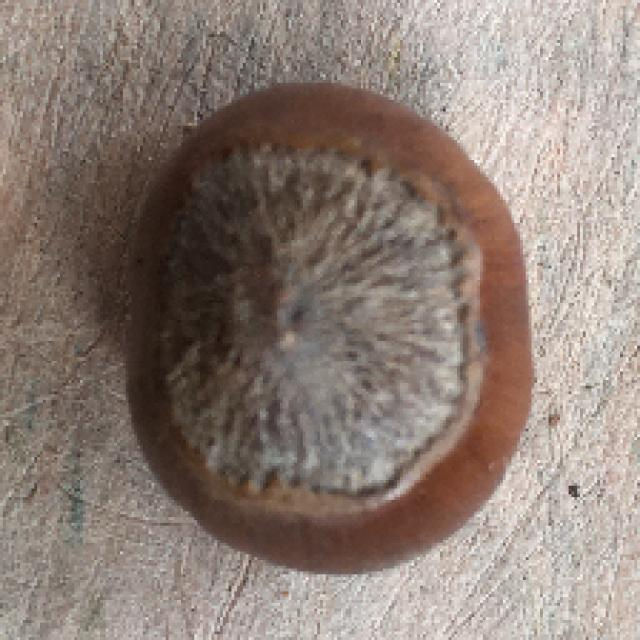damagedHazelnut: (93, 70, 547, 576)
